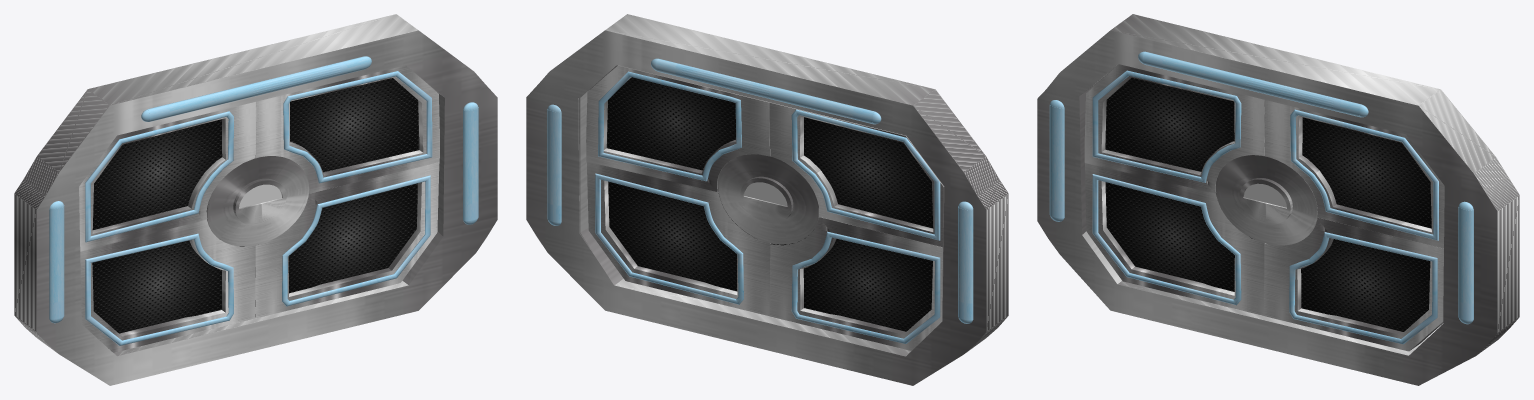
Rendered from bunker katta eshik.fbx.
3 renders of one model, left to right at view 1: azimuth 30°, elevation 25°; view 2: azimuth 150°, elevation 25°; view 3: azimuth 330°, elevation 25°, orthographic.
Parts seen in each view (by area): view 1: Box001, Object003, Object002, Object001, Object004, Line013, Line011, Cylinder007, Line001, Line006, Cylinder005, Line005 (+6 smaller); view 2: Box001, Object002, Object001, Object003, Object004, Line013, Line011, Cylinder007, Line001, Line006, Cylinder006, Line004 (+6 smaller); view 3: Box001, Object001, Object004, Object003, Object002, Line013, Line011, Cylinder007, Line006, Line001, Cylinder005, Line009 (+6 smaller).
Part boxes in pixels (bbox=[...]): Box001: bbox=[14, 14, 497, 385]; Object003: bbox=[290, 78, 419, 172]; Object002: bbox=[92, 240, 244, 333]; Object001: bbox=[92, 119, 222, 229]; Object004: bbox=[288, 183, 417, 293]; Line013: bbox=[255, 162, 439, 318]; Line011: bbox=[80, 219, 255, 352]; Cylinder007: bbox=[206, 156, 309, 246]; Line001: bbox=[255, 65, 439, 193]; Line006: bbox=[79, 102, 256, 251]; Cylinder005: bbox=[141, 56, 371, 121]; Line005: bbox=[85, 111, 233, 242]; Box001: bbox=[526, 14, 1008, 385]; Object002: bbox=[770, 235, 932, 331]; Object001: bbox=[804, 117, 933, 228]; Object003: bbox=[606, 77, 735, 170]; Object004: bbox=[608, 181, 750, 291]; Line013: bbox=[586, 162, 770, 316]; Line011: bbox=[769, 205, 942, 350]; Cylinder007: bbox=[717, 154, 818, 244]; Line001: bbox=[586, 65, 770, 191]; Line006: bbox=[769, 103, 943, 247]; Cylinder006: bbox=[651, 58, 881, 124]; Line004: bbox=[791, 109, 940, 240]; Box001: bbox=[1037, 14, 1519, 385]; Object001: bbox=[1105, 77, 1234, 171]; Object004: bbox=[1301, 239, 1430, 331]; Object003: bbox=[1302, 117, 1431, 228]; Object002: bbox=[1105, 182, 1252, 291]; Line013: bbox=[1264, 217, 1443, 351]; Line011: bbox=[1085, 163, 1266, 315]; Cylinder007: bbox=[1216, 155, 1317, 245]; Line006: bbox=[1084, 64, 1264, 193]; Line001: bbox=[1264, 100, 1444, 248]; Cylinder005: bbox=[1138, 51, 1368, 117]; Line009: bbox=[1092, 174, 1241, 305].
Bounding box in the file's own units: 331 × 192 × 39.02.
4 materials, 4 textured.
